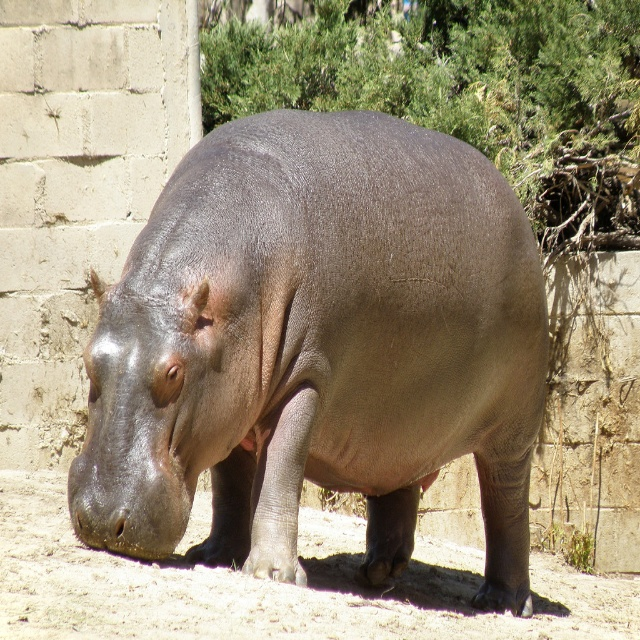Hippopotamus: (66, 109, 547, 618)
